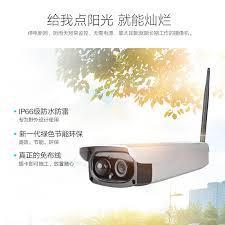tutu: (74, 135, 215, 190)
